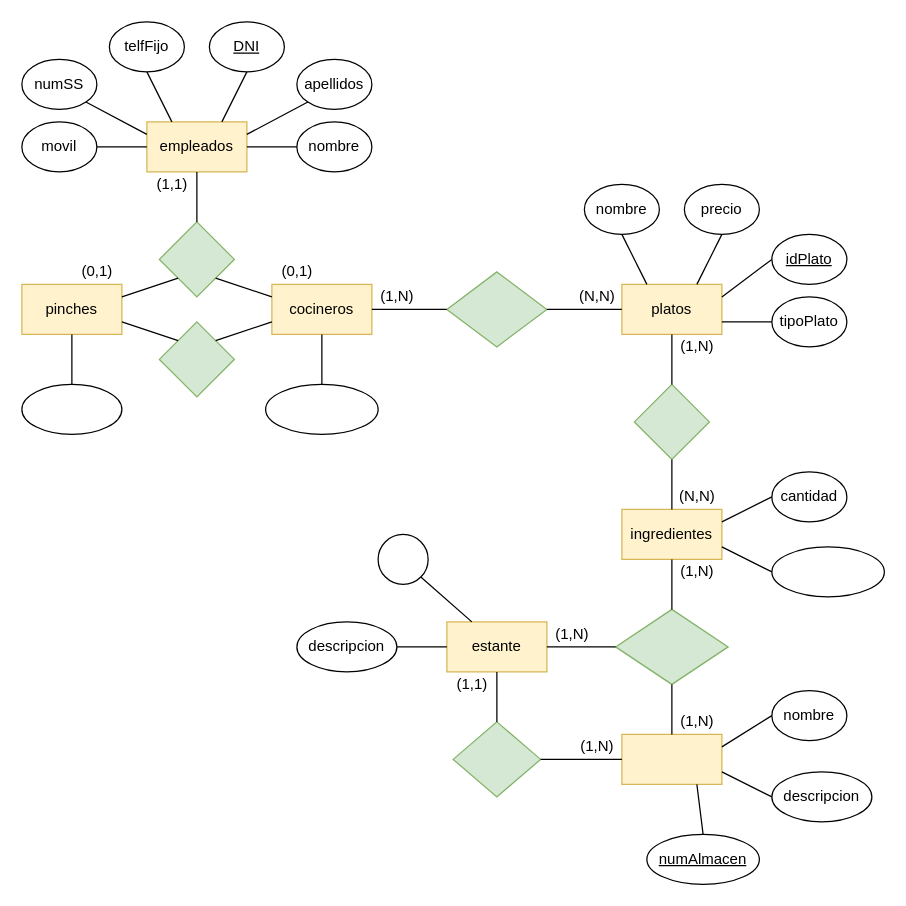
The diagram is 906 pixels wide and 906 high, and some of its shapes have lost their labels. Here are the shapes that lost their labels. From the top down, the centre of each, then its label:
point (196, 259): son
point (496, 309): preparan
point (196, 359): cargo
point (71, 408): fechaNacim
point (321, 408): añosServicio
point (671, 421): tiene
point (402, 558): id
point (827, 571): idIngrediente
point (671, 646): se almacena
point (496, 759): contiene
point (671, 758): almacen
